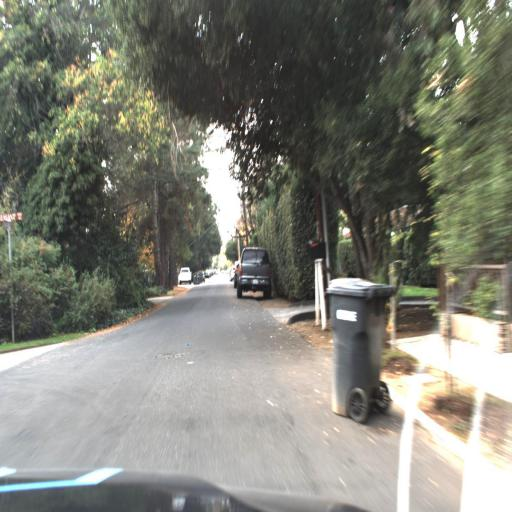car: (234, 245, 274, 300), (176, 263, 193, 292)
